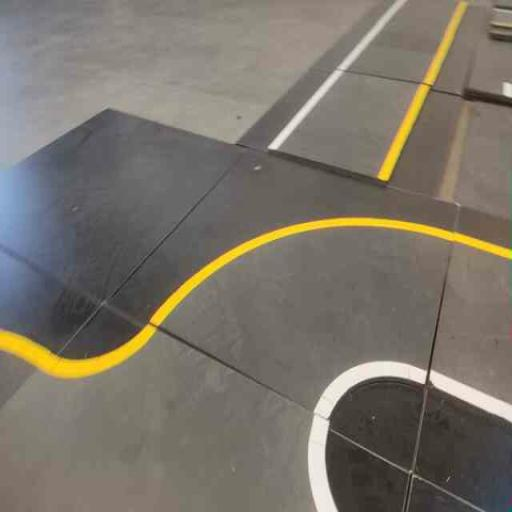right: (135, 174, 459, 473)
